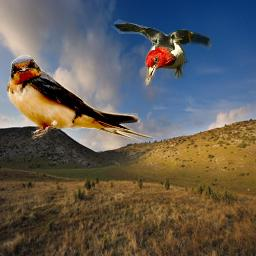Swallow: (5, 55, 156, 147)
Woodpecker: (108, 17, 212, 88)
